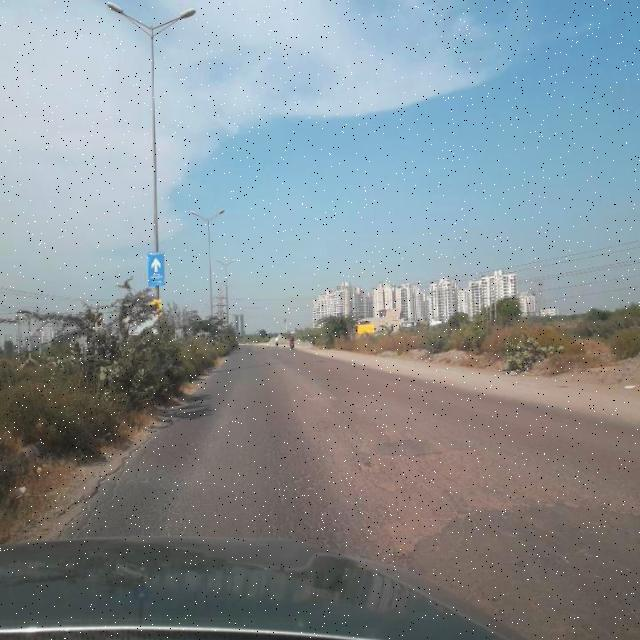D00: (36, 430, 145, 537)
D20: (118, 414, 630, 548)
D40: (370, 501, 460, 558), (358, 456, 416, 495), (597, 484, 640, 520)
